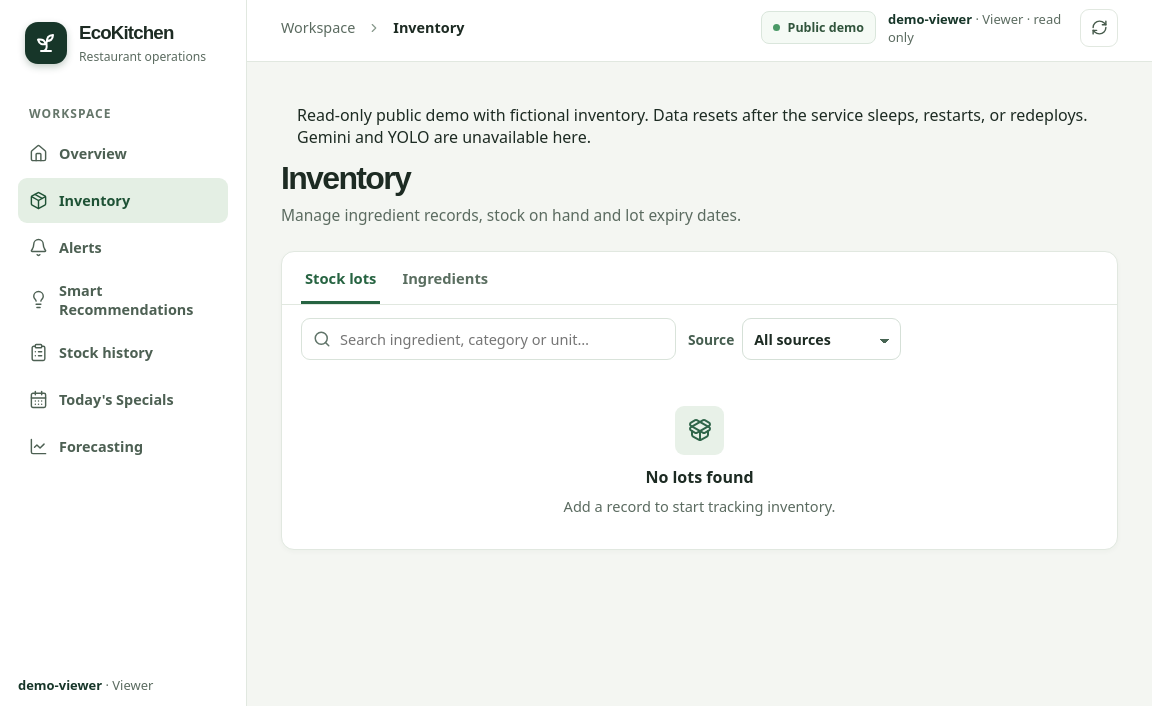
opens the fictional demo directly with read-only navigation
Expected: the heading "Inventory" is shown, left=281, top=160, right=410, bottom=196
Expected: the text "Data resets after the service sleeps" is shown, left=297, top=104, right=1088, bottom=148
Click the link "Smart Recommendations".
click(111, 300)  # box left=29, top=280, right=194, bottom=318
(page scrolled)
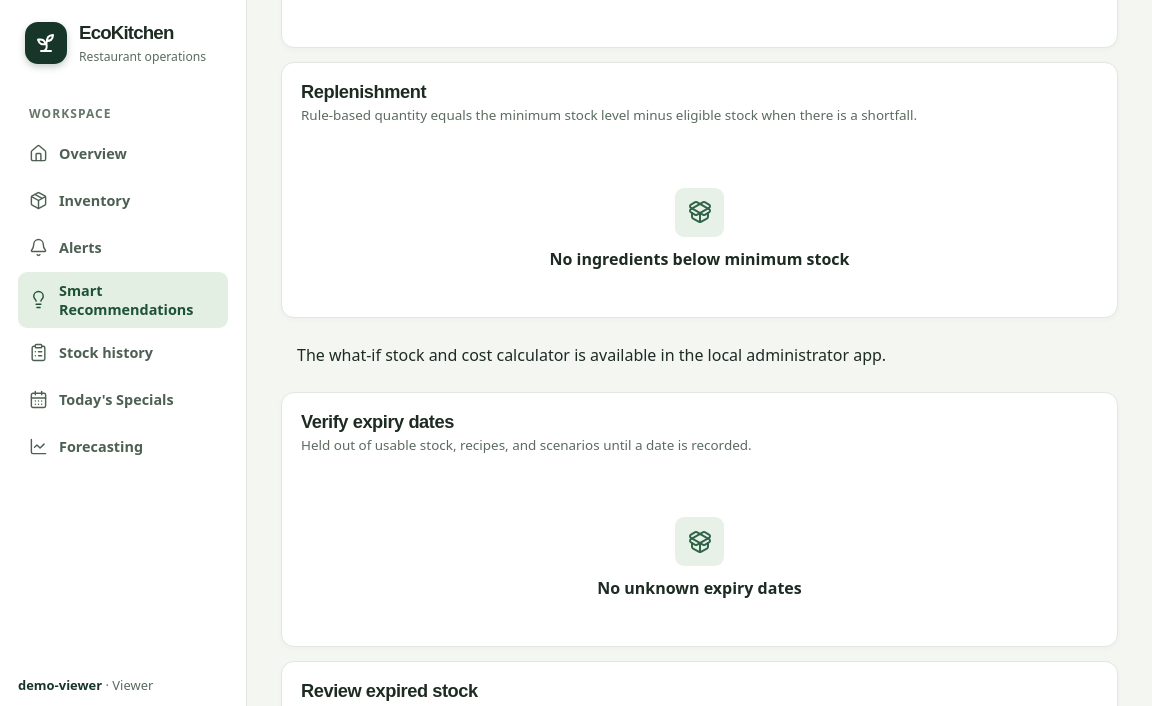
Result: the text "what-if stock and cost calculator" is shown at left=297, top=344, right=886, bottom=366
